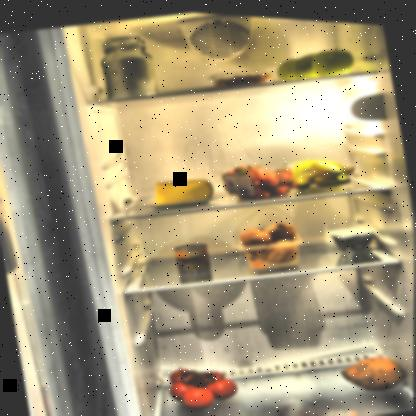apple: (269, 33, 360, 83)
banana: (287, 146, 361, 191)
cheese: (150, 168, 218, 209)
corn: (171, 236, 217, 274)
onion: (235, 211, 303, 267)
shrimp: (213, 59, 278, 89)
strawberries: (219, 152, 302, 203)
sweet_potato: (337, 341, 413, 398)
tomato: (163, 352, 245, 415)
